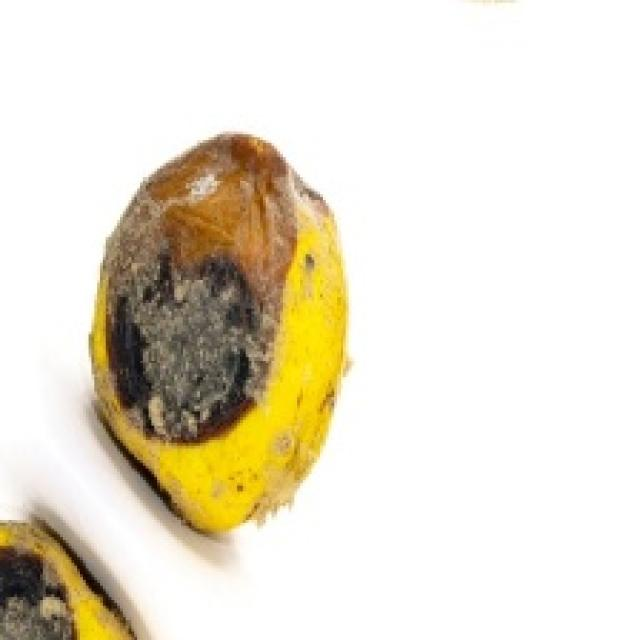rotten_apple: (98, 137, 342, 533)
